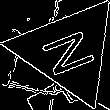N_NE: (35, 23, 102, 79)
